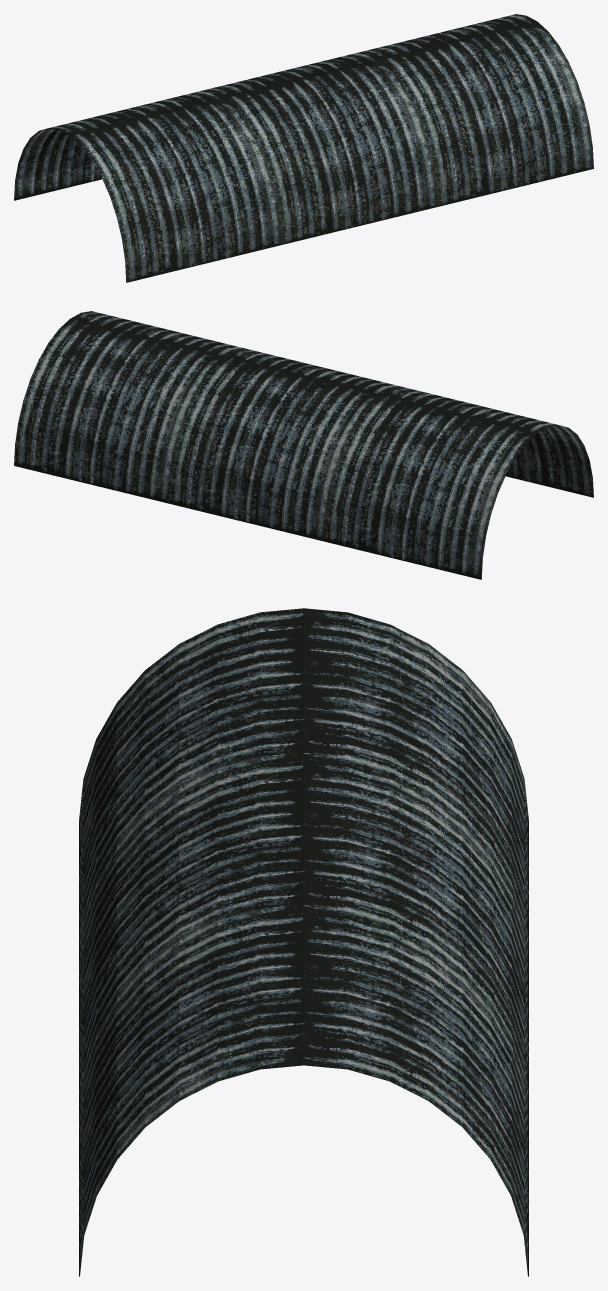
File: SM_EU_MetalTunnel_1.fbx
3 renders of one model, top to bottom at view 1: azimuth 30°, elevation 25°; view 2: azimuth 150°, elevation 25°; view 3: azimuth 270°, elevation 25°, orthographic. The views are drawn at different scales.
Parts seen in each view (by area): view 1: SM_EU_MetalTunnel_1; view 2: SM_EU_MetalTunnel_1; view 3: SM_EU_MetalTunnel_1.
Boxes of the visible parts, <box> form: SM_EU_MetalTunnel_1: <box>14,14,593,282</box>; SM_EU_MetalTunnel_1: <box>14,311,593,579</box>; SM_EU_MetalTunnel_1: <box>79,608,528,1276</box>.
Bounding box in the file's own units: 12 × 5 × 2.6.
